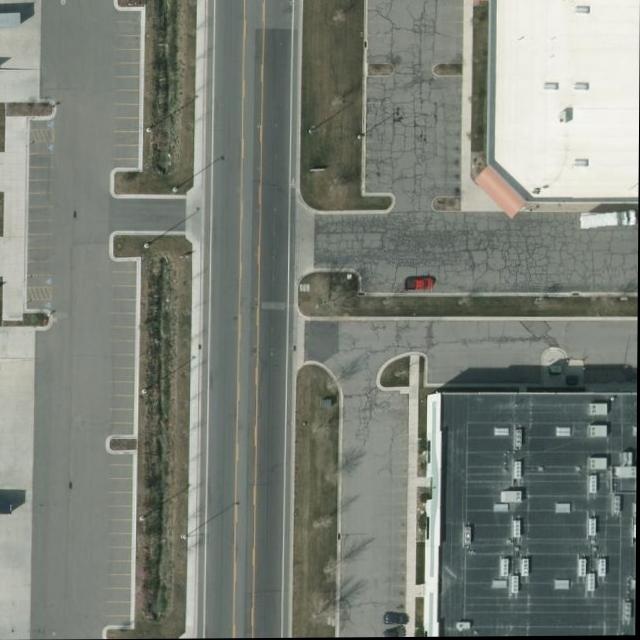vehicle: (580, 211, 638, 229), (403, 278, 436, 291), (384, 613, 411, 627), (382, 626, 407, 638)
